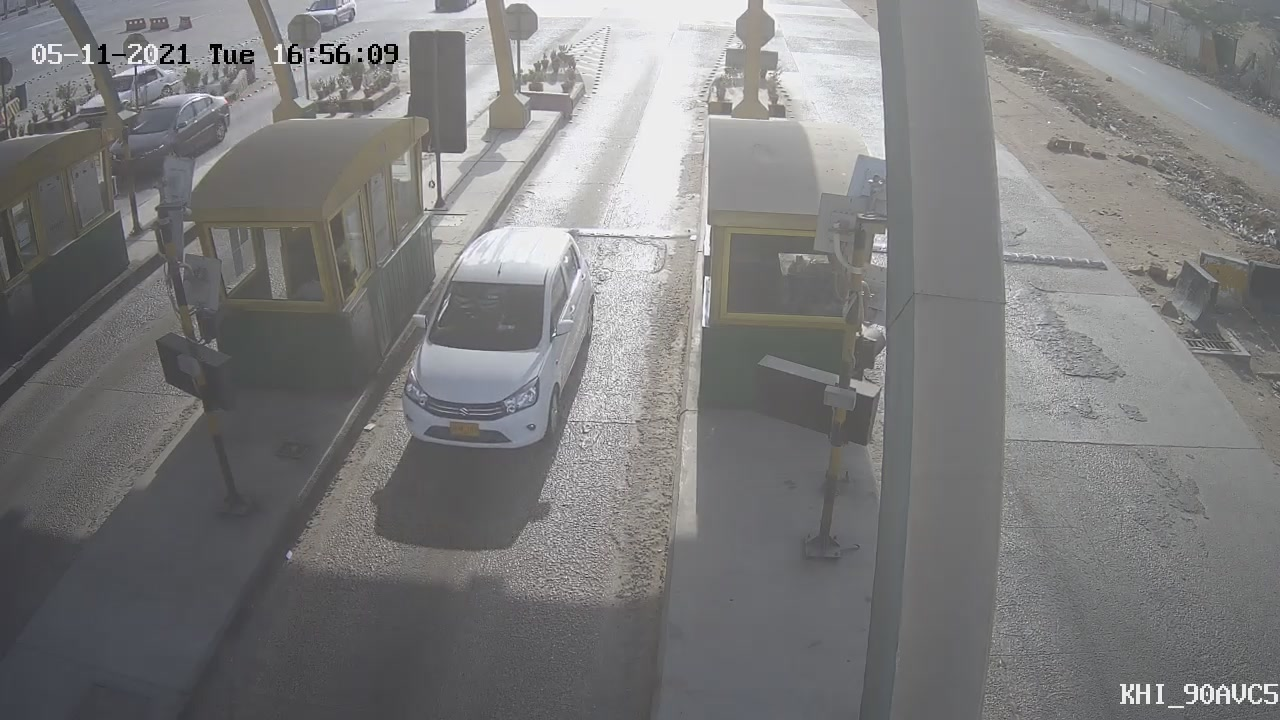F1: (373, 200, 612, 479)
